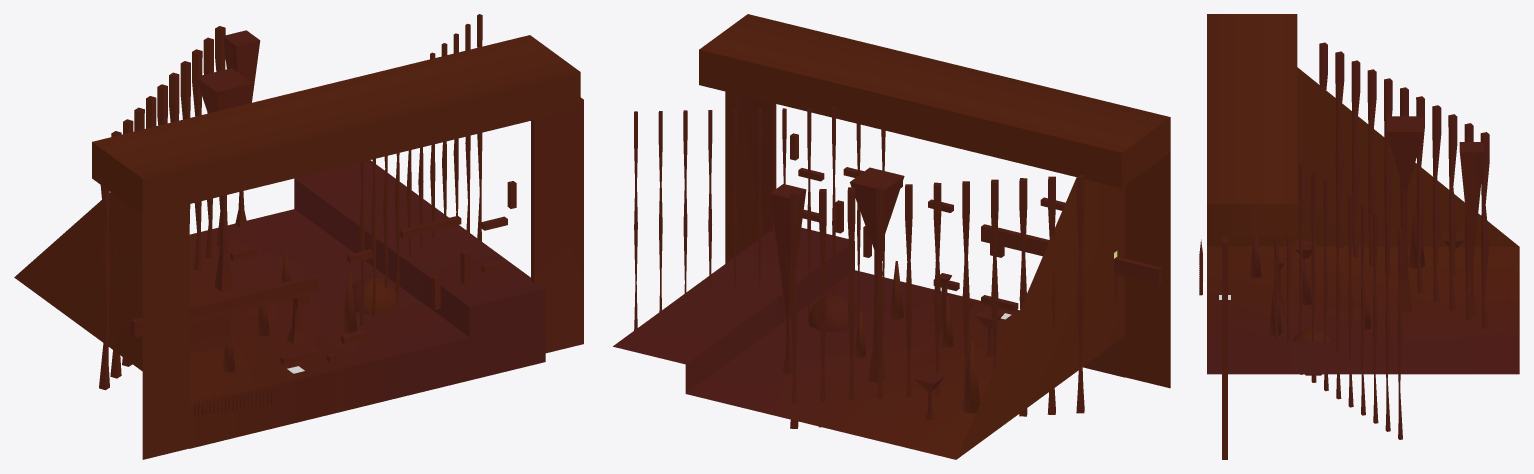
Rendered from level_two.glb.
3 views of the same model, side by side, from view 1: azimuth 30°, elevation 25°; view 2: azimuth 150°, elevation 25°; view 3: azimuth 270°, elevation 25° (orthographic). The views are drawn at different scales.
Visible parts, largest first — view 1: Ground.042, Ground.048, Pole.002, Pole.003, Cube.009, Ground.045, Cube.010, Ground.046, Icosphere.001, Cone.001, Ground.051, Cylinder.007; view 2: Ground.042, Pole.002, Ground.048, Pole.003, Cube.009, Cube.010, Ground.045, Icosphere.001, Cylinder.009; view 3: Ground.042, Pole.002, Pole.003, Cube.009, Cube.010, Ground.048, Cylinder.009, Icosphere.001, Cylinder.007, Cylinder.005.
Part boxes in pixels (box(x1,y1,x2,y2)): Ground.042: box(14, 35, 580, 459); Ground.048: box(531, 97, 583, 353); Pole.002: box(99, 26, 225, 390); Pole.003: box(359, 14, 482, 326); Cube.009: box(196, 68, 252, 291); Ground.045: box(131, 275, 318, 337); Cube.010: box(223, 30, 260, 227); Ground.046: box(189, 314, 230, 354); Icosphere.001: box(352, 275, 398, 314); Cone.001: box(193, 387, 274, 416); Ground.051: box(399, 215, 461, 238); Cylinder.007: box(342, 271, 357, 332); Ground.042: box(613, 14, 1170, 459); Pole.002: box(790, 175, 1084, 428); Ground.048: box(725, 91, 776, 263); Pole.003: box(634, 107, 885, 330); Cube.009: box(849, 167, 904, 382); Cube.010: box(770, 184, 806, 374); Ground.045: box(981, 224, 1162, 284); Icosphere.001: box(808, 295, 858, 332); Cylinder.009: box(962, 339, 980, 413); Ground.042: box(1207, 14, 1519, 374); Pole.002: box(1319, 42, 1489, 329); Pole.003: box(1274, 163, 1402, 439); Cube.009: box(1387, 116, 1423, 311); Cube.010: box(1459, 142, 1484, 315); Ground.048: box(1222, 237, 1227, 459); Cylinder.009: box(1408, 200, 1425, 268); Icosphere.001: box(1292, 328, 1334, 375); Cylinder.007: box(1268, 282, 1282, 335); Cylinder.005: box(1249, 237, 1261, 277).
Size of the model in its own units: 77 by 46.06 by 53.28.
Materials: 1 (1 with a texture image).
